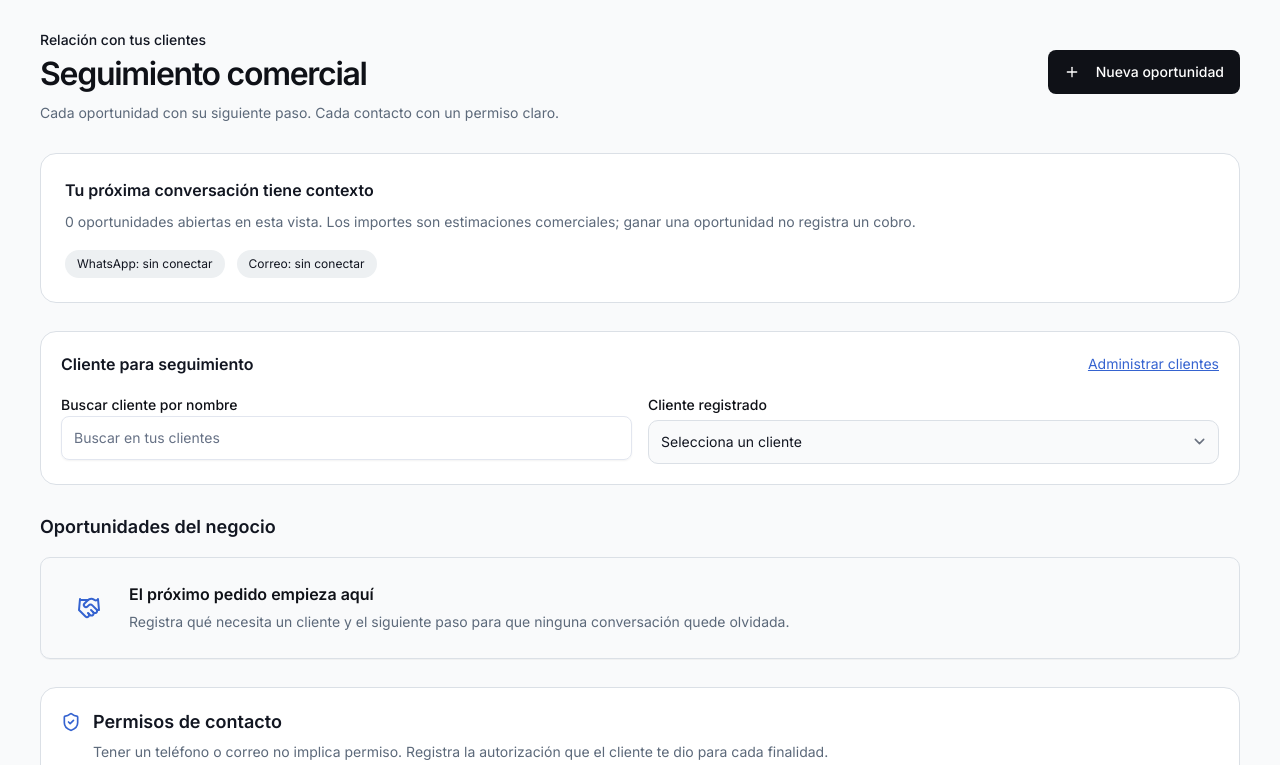
creates an estimated opportunity only for a selected real customer
Expected: the heading "El próximo pedido empieza aquí" is shown, [129,584,374,604]
Click the button "Nueva oportunidad": (1144, 72) [1048,50,1240,94]
(page scrolled)
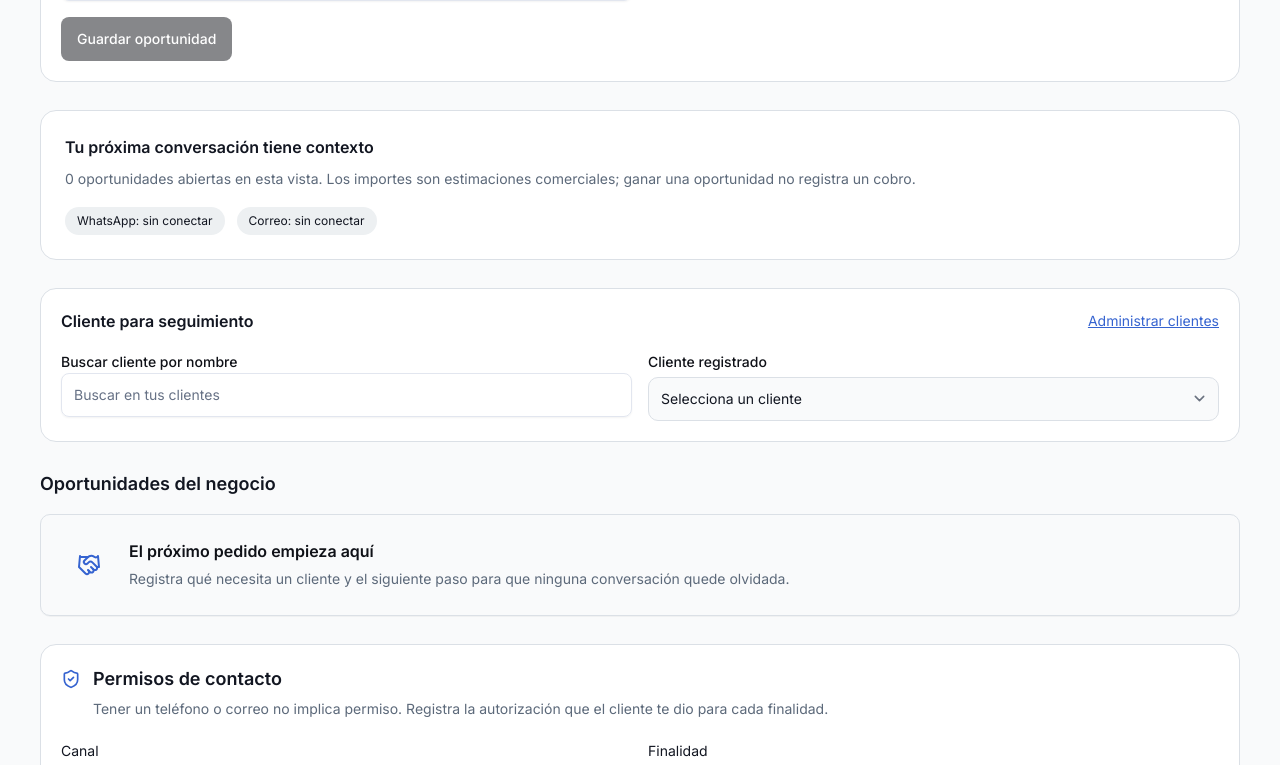
Expected: the button "Guardar oportunidad" is disabled, [61,17,232,61]
Select "Panadería del Centro" in the dropdown labelled "Cliente registrado": (934, 399) [648,377,1219,421]
(page scrolled)
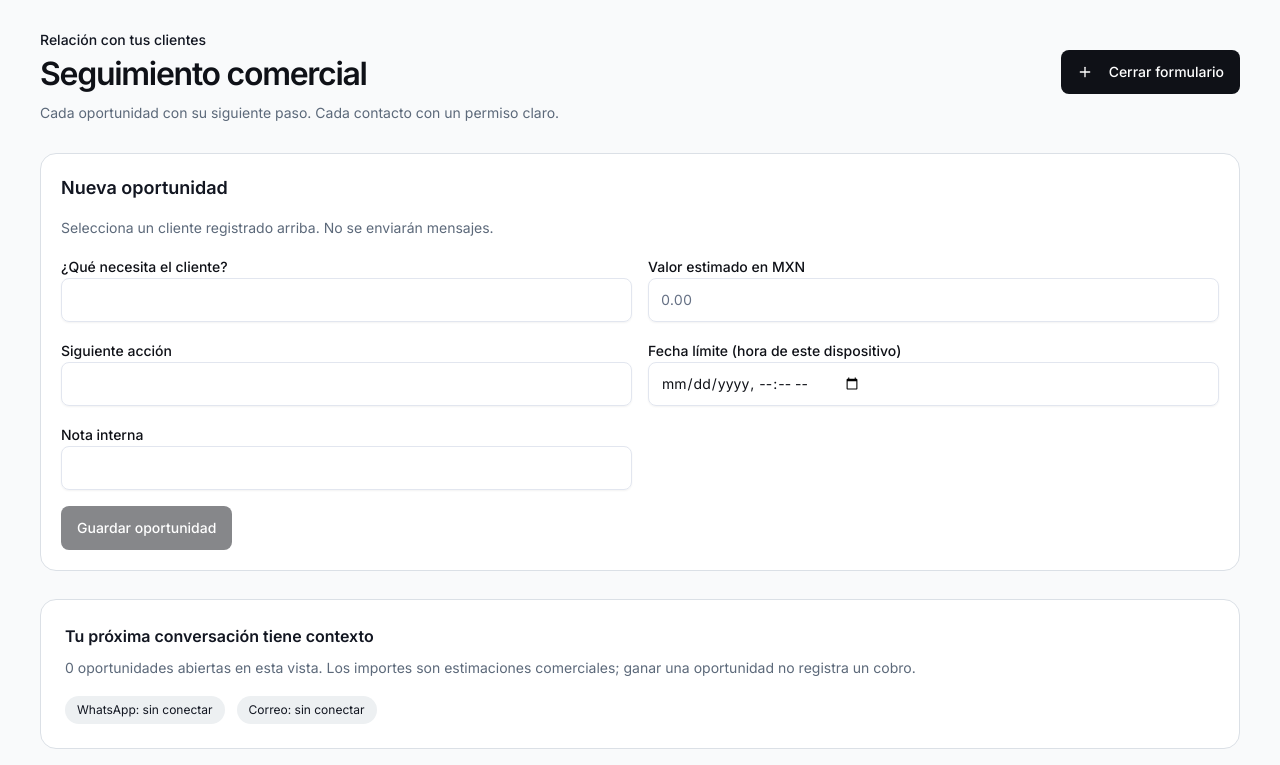
In the field labelled "¿Qué necesita el cliente?": (346, 300) [61,278,632,322], type "Pedido de aniversario"
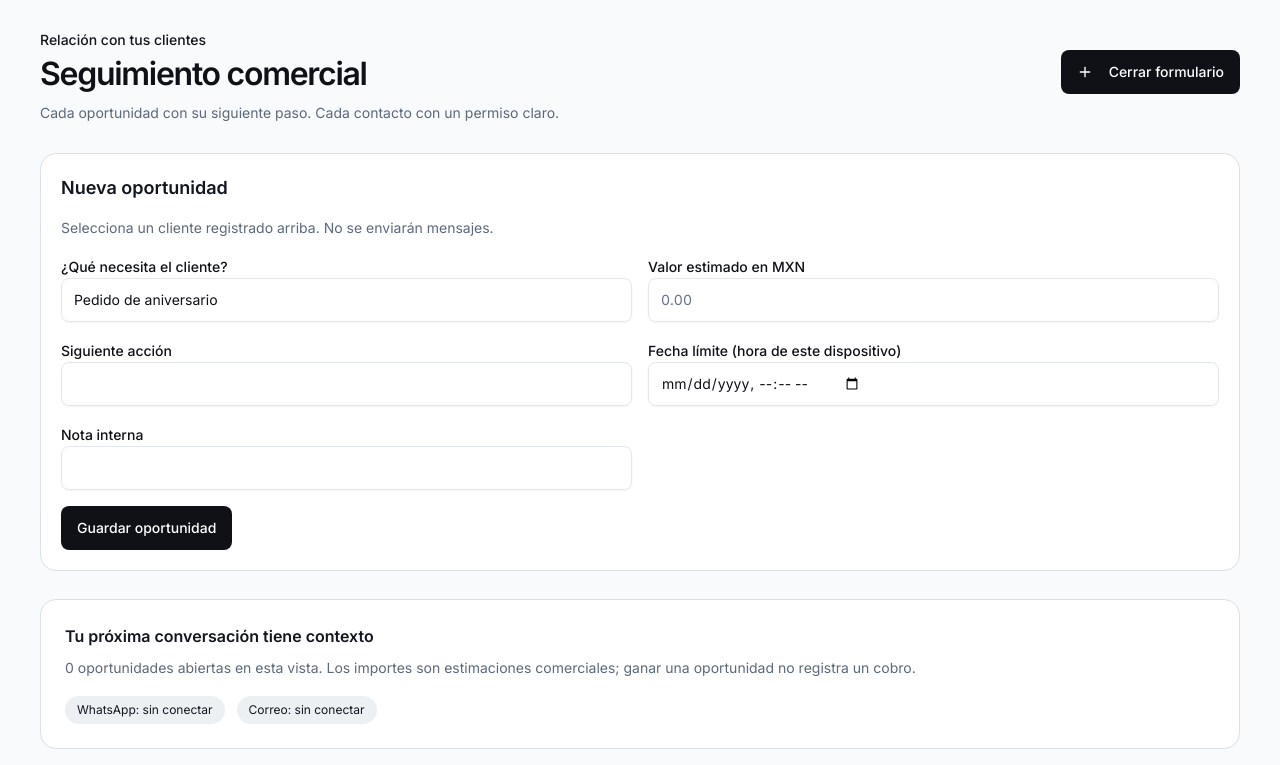
In the number field labelled "Valor estimado en MXN": (934, 300) [648,278,1219,322], type "1250.50"
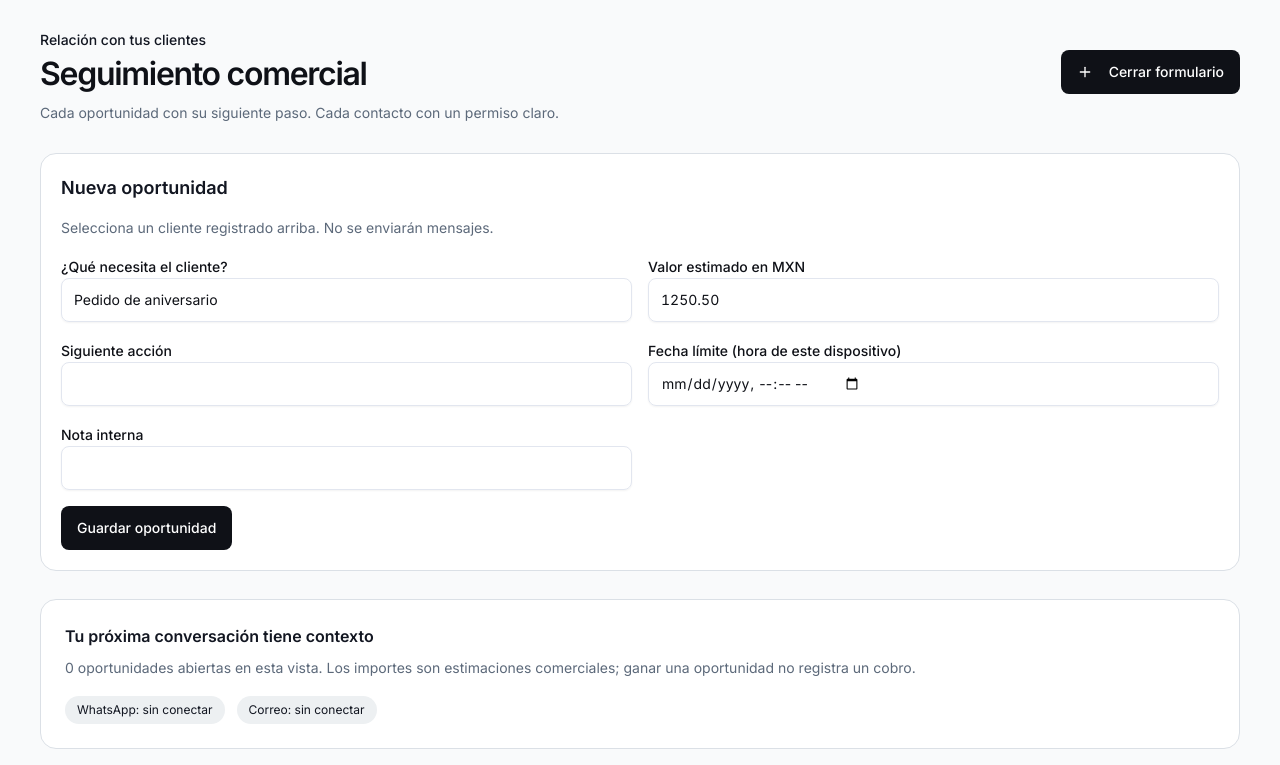
In the field labelled "Siguiente acción": (346, 384) [61,362,632,406], type "Confirmar sabores"
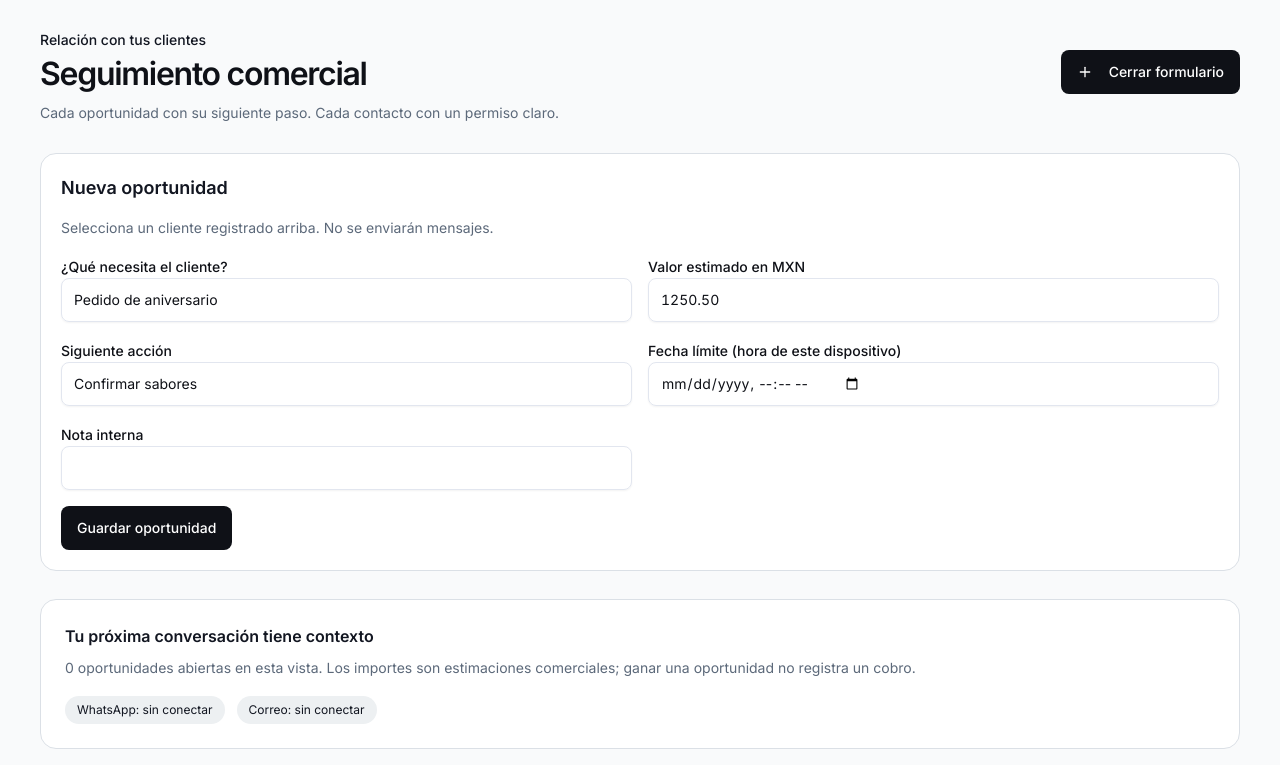
Click the button "Guardar oportunidad": (147, 528) [61,506,232,550]
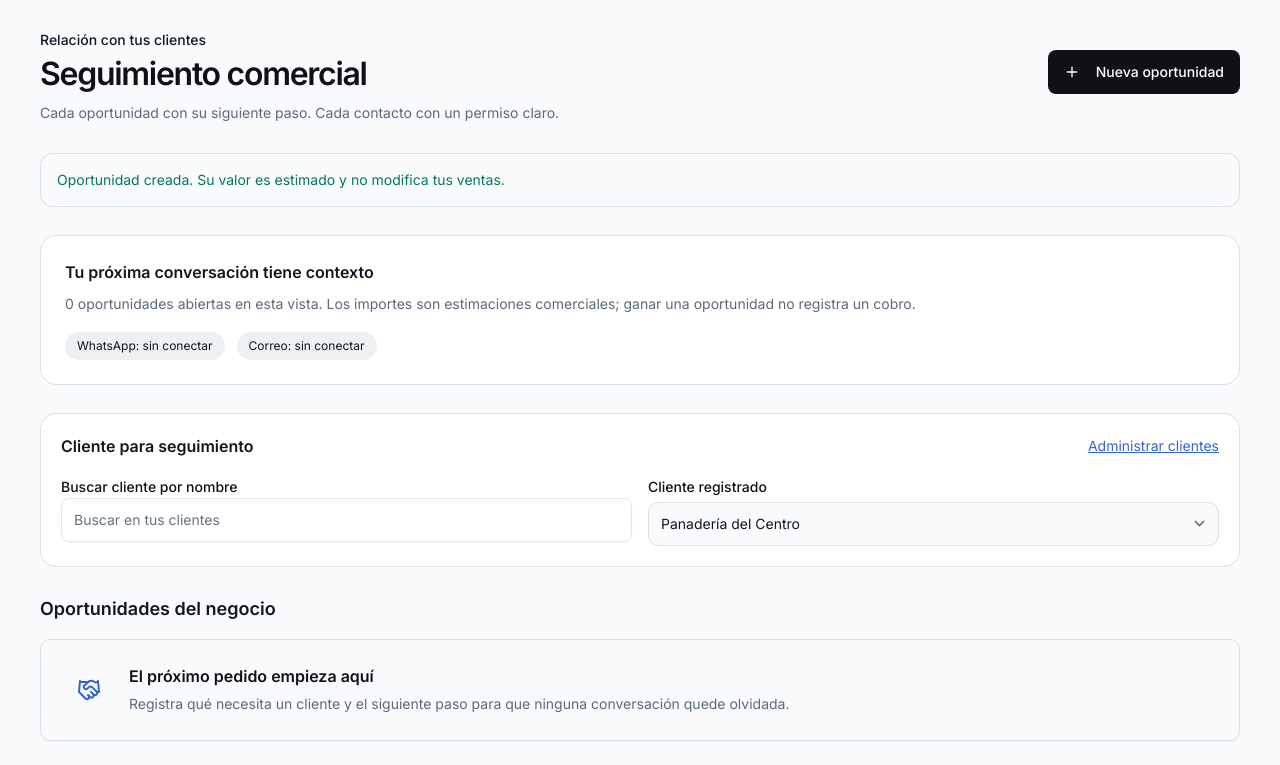
Expected: the text "Oportunidad creada. Su valor es estimado y no modifica tus ventas." is shown, [40,153,1240,207]
